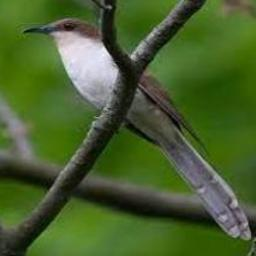Cuckoo: (22, 17, 250, 240)
